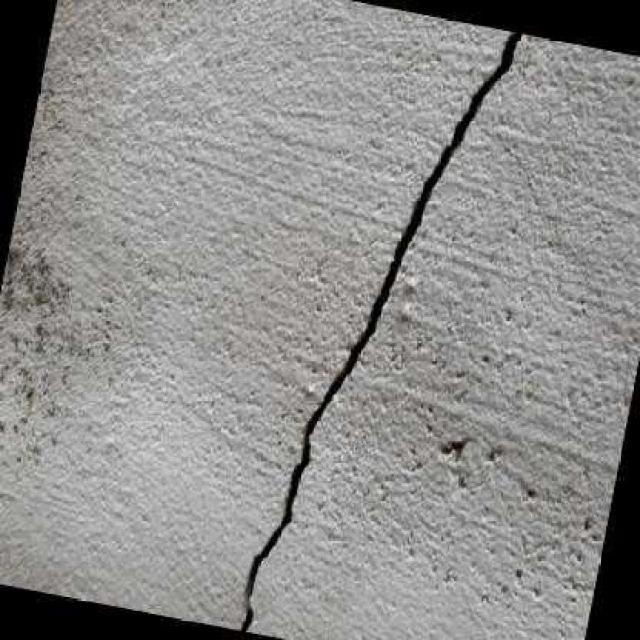D00: (239, 31, 521, 632)
